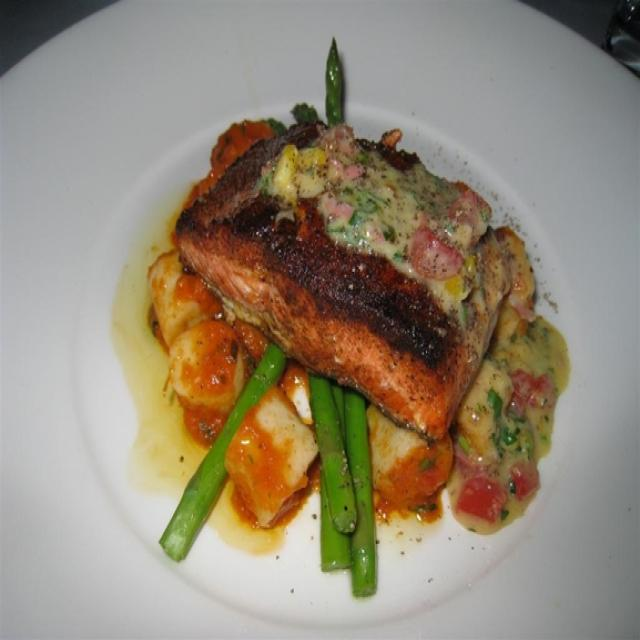熟制海鲜: (3, 1, 629, 624)
